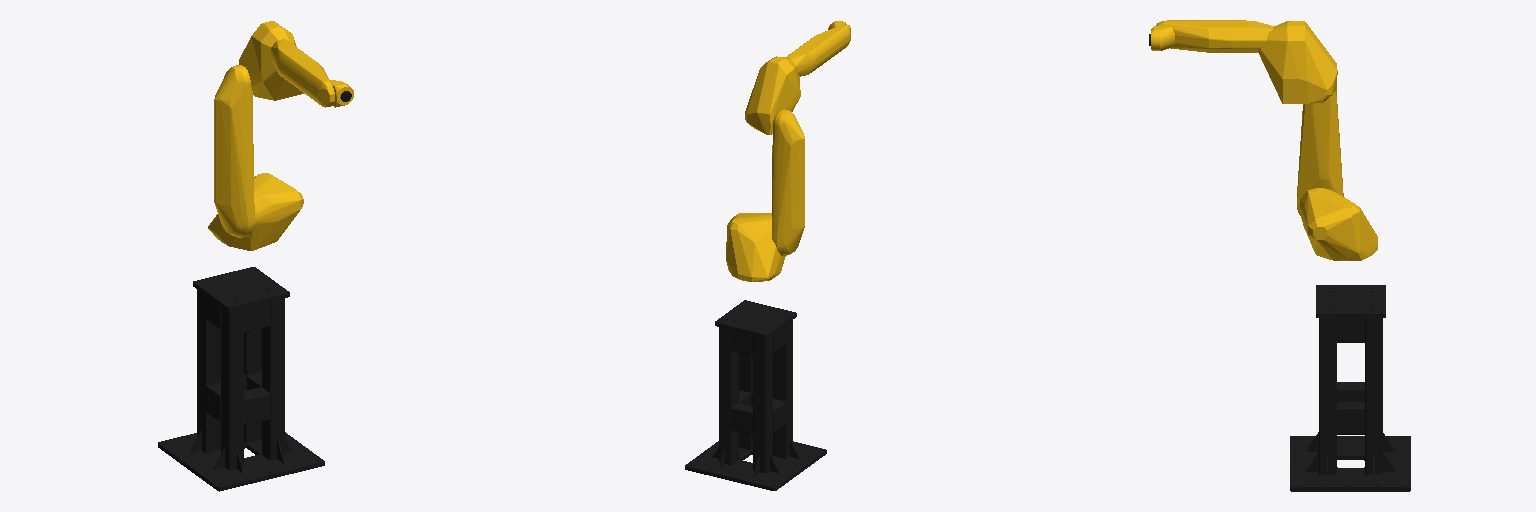
URDF robot description (fanuc_m20):
<?xml version="1.0" ?>
<!-- =================================================================================== -->
<!-- |    This document was autogenerated by xacro from fanucm20_robot.urdf.xacro      | -->
<!-- |    EDITING THIS FILE BY HAND IS NOT RECOMMENDED                                 | -->
<!-- =================================================================================== -->
<robot name="fanuc_m20" xmlns:xacro="http://wiki.ros.org/xacro">
  <gazebo>
    <plugin filename="libgazebo_ros_control.so" name="ros_control">
      <!--robotNamespace>/</robotNamespace-->
      <!--robotSimType>gazebo_ros_control/DefaultRobotHWSim</robotSimType-->
      <legacyModeNS>true</legacyModeNS>
    </plugin>
    <!--
    <plugin name="gazebo_ros_power_monitor_controller" filename="libgazebo_ros_power_monitor.so">
      <alwaysOn>true</alwaysOn>
      <updateRate>1.0</updateRate>
      <timeout>5</timeout>
      <powerStateTopic>power_state</powerStateTopic>
      <powerStateRate>10.0</powerStateRate>
      <fullChargeCapacity>87.78</fullChargeCapacity>     
      <dischargeRate>-474</dischargeRate>
      <chargeRate>525</chargeRate>
      <dischargeVoltage>15.52</dischargeVoltage>
      <chargeVoltage>16.41</chargeVoltage>
    </plugin>
-->
  </gazebo>
  <link name="base_link">
    <inertial>
      <origin rpy="0 0 0" xyz="-2.7535E-06 0.00054789 0.02299"/>
      <mass value="1.2345e+01"/>
      <inertia ixx="0.0029215E-04" ixy="2.2046E-07" ixz="-3.4773E-08" iyy="0.0028546E-04" iyz="-7.6362E-06" izz="0.000051176"/>
    </inertial>
    <visual>
      <origin rpy="0 0 0" xyz="0 0 1"/>
      <geometry>
        <mesh filename="../meshes/visual/base_link.stl"/>
      </geometry>
      <material name="">
        <color rgba="0.278431372549 0.278431372549 0.278431372549 1.0"/>
      </material>
    </visual>
    <collision>
      <origin rpy="0 0 0" xyz="0 0 1"/>
      <geometry>
        <mesh filename="../meshes/collision/base_link.stl"/>
      </geometry>
    </collision>
  </link>
  <joint name="shoulder_pan_joint" type="revolute">
    <parent link="base_link"/>
    <child link="shoulder_link"/>
    <origin rpy="0 0 0" xyz="0 0 1.525"/>
    <axis xyz="0 0 1"/>
    <limit effort="0" lower="-3.1415" upper="3.1415" velocity="3.0543"/>
    <dynamics damping="1.0" friction="0.0"/>
  </joint>
  <link name="shoulder_link">
    <inertial>
      <origin rpy="0 0 0" xyz="0.00029287 0.14173 0.54281"/>
      <mass value="10.994e-02"/>
      <inertia ixx="2.2088e-02" ixy="-0.00043922e-02" ixz="-0.0025417e-02" iyy="2.1473e-02" iyz="-0.049088e-02" izz="0.07998e-02"/>
    </inertial>
    <visual>
      <origin rpy="0 0 0" xyz="0 0 0"/>
      <geometry>
        <mesh filename="../meshes/visual/link_1.dae"/>
      </geometry>
      <material name="">
        <color rgba="0.96 0.76 0.13 1.0"/>
      </material>
    </visual>
    <collision>
      <origin rpy="0 0 0" xyz="0 0 0"/>
      <geometry>
        <mesh filename="../meshes/collision/link_1.stl"/>
      </geometry>
    </collision>
  </link>
  <joint name="shoulder_lift_joint" type="revolute">
    <parent link="shoulder_link"/>
    <child link="upper_arm_link"/>
    <origin rpy="0 0 0" xyz="0.150 0 0"/>
    <axis xyz="0 1 0"/>
    <limit effort="330.0" lower="-6.28318530718" upper="6.28318530718" velocity="2.16"/>
    <dynamics damping="1.0" friction="0.0"/>
  </joint>
  <link name="upper_arm_link">
    <inertial>
      <origin rpy="0 0 0" xyz="0.31908 -3.7071E-06 -0.0042956"/>
      <mass value="5.3139e-02"/>
      <inertia ixx="0.0095171e-02" ixy="7.2849E-06" ixz="-6.7014E-06" iyy="0.11411e-02" iyz="-1.1529E-06" izz="0.11411e-02"/>
    </inertial>
    <visual>
      <origin rpy="0 0 0" xyz="0 0 0"/>
      <geometry>
        <mesh filename="../meshes/visual/link_2.dae"/>
      </geometry>
      <material name="">
        <color rgba="0.96 0.76 0.13 1.0"/>
      </material>
    </visual>
    <collision>
      <origin rpy="0 0 0" xyz="0 0 0"/>
      <geometry>
        <mesh filename="../meshes/collision/link_2.stl"/>
      </geometry>
    </collision>
  </link>
  <joint name="elbow_joint" type="revolute">
    <parent link="upper_arm_link"/>
    <child link="forearm_link"/>
    <origin rpy="0 0 0" xyz="0 0 0.790"/>
    <axis xyz="0 -1 0"/>
    <limit effort="150.0" lower="-3.14159265359" upper="3.14159265359" velocity="3.15"/>
    <dynamics damping="1.0" friction="0.0"/>
  </joint>
  <link name="forearm_link">
    <inertial>
      <origin rpy="0 0 0" xyz="0.24431 6.6794E-06 0.12549"/>
      <mass value="3.1022e-02"/>
      <inertia ixx="0.0027288e-02" ixy="-6.2713E-06" ixz="-0.0018082e-02" iyy="0.097825e-02" iyz="3.5731E-07" izz="0.097866"/>
    </inertial>
    <visual>
      <origin rpy="0 0 0" xyz="0 0 0"/>
      <geometry>
        <mesh filename="../meshes/visual/link_3.dae"/>
      </geometry>
      <material name="">
        <color rgba="0.96 0.76 0.13 1.0"/>
      </material>
    </visual>
    <collision>
      <origin rpy="0 0 0" xyz="0 0 0"/>
      <geometry>
        <mesh filename="../meshes/collision/link_3.stl"/>
      </geometry>
    </collision>
  </link>
  <joint name="wrist_1_joint" type="revolute">
    <parent link="forearm_link"/>
    <child link="wrist_1_link"/>
    <origin rpy="0 0 0" xyz="0 0 0.250"/>
    <axis xyz="-1 0 0"/>
    <limit effort="54.0" lower="-6.28318530718" upper="6.28318530718" velocity="3.2"/>
    <dynamics damping="1.0" friction="0.0"/>
  </joint>
  <link name="wrist_1_link">
    <inertial>
      <origin rpy="0 0 0" xyz="-5.2305E-07 -0.00026581 -0.0027894"/>
      <mass value="0.57981e-03"/>
      <inertia ixx="0.00088336e-02" ixy="-6.4251E-09" ixz="-5.1594E-09" iyy="0.00046118e-02" iyz="1.0734E-06" izz="0.00085336e-02"/>
    </inertial>
    <visual>
      <origin rpy="0 0 0" xyz="0 0 0"/>
      <geometry>
        <mesh filename="../meshes/visual/link_4.dae"/>
      </geometry>
      <material name="">
        <color rgba="0.96 0.76 0.13 1.0"/>
      </material>
    </visual>
    <collision>
      <origin rpy="0 0 0" xyz="0 0 0"/>
      <geometry>
        <mesh filename="../meshes/collision/link_4.stl"/>
      </geometry>
    </collision>
  </link>
  <joint name="wrist_2_joint" type="revolute">
    <parent link="wrist_1_link"/>
    <child link="wrist_2_link"/>
    <origin rpy="0 0 0" xyz="0.835 0 0.0"/>
    <axis xyz="0 -1 0"/>
    <limit effort="54.0" lower="-6.28318530718" upper="6.28318530718" velocity="3.2"/>
    <dynamics damping="0.0" friction="0.0"/>
  </joint>
  <link name="wrist_2_link">
    <inertial>
      <origin rpy="0 0 0" xyz="-5.2305E-07 -0.00026581 -0.0027894"/>
      <mass value="0.37981e-03"/>
      <inertia ixx="0.00088336e-02" ixy="-6.4251E-09" ixz="-5.1594E-09" iyy="0.00046118e-02" iyz="1.0734E-06" izz="0.00085336e-02"/>
    </inertial>
    <visual>
      <origin rpy="0 0 0" xyz="0 0 0"/>
      <geometry>
        <mesh filename="../meshes/visual/link_5.dae"/>
      </geometry>
      <material name="">
        <color rgba="0.96 0.76 0.13 1.0"/>
      </material>
    </visual>
    <collision>
      <origin rpy="0 0 0" xyz="0 0 0"/>
      <geometry>
        <mesh filename="../meshes/collision/link_5.stl"/>
      </geometry>
    </collision>
  </link>
  <joint name="wrist_3_joint" type="revolute">
    <parent link="wrist_2_link"/>
    <child link="wrist_3_link"/>
    <origin rpy="0 0 0" xyz="0.1 0 0"/>
    <axis xyz="-1 0 0"/>
    <limit effort="0" lower="-6.2831" upper="6.2831" velocity="6.1959"/>
    <dynamics damping="0.0" friction="0.0"/>
  </joint>
  <link name="wrist_3_link">
    <inertial>
      <origin rpy="0 0 0" xyz="-2.2127E-09 0.00023722 -0.018629"/>
      <mass value="0.13669e-03"/>
      <inertia ixx="6.0946E-07" ixy="9.3663E-12" ixz="-1.3841E-12" iyy="5.9501E-07" iyz="1.9944E-09" izz="9.6981E-07"/>
    </inertial>
    <visual>
      <origin rpy="0 0 0" xyz="0 0 0"/>
      <geometry>
        <mesh filename="../meshes/visual/link_6.dae"/>
      </geometry>
      <material name="">
        <color rgba="0.15 0.15 0.15 1.0"/>
      </material>
    </visual>
    <collision>
      <origin rpy="0 0 0" xyz="0 0 0"/>
      <geometry>
        <mesh filename="../meshes/collision/link_6.stl"/>
      </geometry>
    </collision>
  </link>
  <transmission name="shoulder_pan_trans">
    <type>transmission_interface/SimpleTransmission</type>
    <joint name="shoulder_pan_joint">
      <hardwareInterface>hardware_interface/PositionJointInterface</hardwareInterface>
    </joint>
    <actuator name="shoulder_pan_motor">
      <mechanicalReduction>1</mechanicalReduction>
    </actuator>
  </transmission>
  <transmission name="shoulder_lift_trans">
    <type>transmission_interface/SimpleTransmission</type>
    <joint name="shoulder_lift_joint">
      <hardwareInterface>hardware_interface/PositionJointInterface</hardwareInterface>
    </joint>
    <actuator name="shoulder_lift_motor">
      <mechanicalReduction>1</mechanicalReduction>
    </actuator>
  </transmission>
  <transmission name="elbow_trans">
    <type>transmission_interface/SimpleTransmission</type>
    <joint name="elbow_joint">
      <hardwareInterface>hardware_interface/PositionJointInterface</hardwareInterface>
    </joint>
    <actuator name="elbow_motor">
      <mechanicalReduction>1</mechanicalReduction>
    </actuator>
  </transmission>
  <transmission name="wrist_1_trans">
    <type>transmission_interface/SimpleTransmission</type>
    <joint name="wrist_1_joint">
      <hardwareInterface>hardware_interface/PositionJointInterface</hardwareInterface>
    </joint>
    <actuator name="wrist_1_motor">
      <mechanicalReduction>1</mechanicalReduction>
    </actuator>
  </transmission>
  <transmission name="wrist_2_trans">
    <type>transmission_interface/SimpleTransmission</type>
    <joint name="wrist_2_joint">
      <hardwareInterface>hardware_interface/PositionJointInterface</hardwareInterface>
    </joint>
    <actuator name="wrist_2_motor">
      <mechanicalReduction>1</mechanicalReduction>
    </actuator>
  </transmission>
  <transmission name="wrist_3_trans">
    <type>transmission_interface/SimpleTransmission</type>
    <joint name="wrist_3_joint">
      <hardwareInterface>hardware_interface/PositionJointInterface</hardwareInterface>
    </joint>
    <actuator name="wrist_3_motor">
      <mechanicalReduction>1</mechanicalReduction>
    </actuator>
  </transmission>
  <gazebo reference="shoulder_link">
    <selfCollide>true</selfCollide>
  </gazebo>
  <gazebo reference="upper_arm_link">
    <selfCollide>true</selfCollide>
  </gazebo>
  <gazebo reference="forearm_link">
    <selfCollide>true</selfCollide>
  </gazebo>
  <gazebo reference="wrist_1_link">
    <selfCollide>true</selfCollide>
  </gazebo>
  <gazebo reference="wrist_3_link">
    <selfCollide>true</selfCollide>
  </gazebo>
  <gazebo reference="wrist_2_link">
    <selfCollide>true</selfCollide>
  </gazebo>
  <gazebo reference="ee_link">
    <selfCollide>true</selfCollide>
  </gazebo>
  <!-- base for robot -->
  <link name="fanucbase">
    <inertial>
      <origin rpy="0 0 0" xyz="-2.7535E-06 0.00054789 0.02299"/>
      <mass value="3.2345e+01"/>
      <inertia ixx="0.0029215E-04" ixy="2.2046E-07" ixz="-3.4773E-08" iyy="0.0028546E-04" iyz="-7.6362E-06" izz="0.000051176"/>
    </inertial>
    <visual>
      <origin rpy="0 0 0" xyz="0 0 0"/>
      <geometry>
        <mesh filename="../meshes/visual/base.dae" scale="0.6 0.6 1"/>
      </geometry>
      <material name="">
        <color rgba="0.15 0.15 0.15 1.0"/>
      </material>
    </visual>
    <collision>
      <origin rpy="0 0 0" xyz="0 0 0"/>
      <geometry>
        <mesh filename="../meshes/visual/base.STL" scale="0.6 0.6 1"/>
      </geometry>
    </collision>
  </link>
  <joint name="base_link_base" type="fixed">
    <origin rpy="0 0 0" xyz="-0.35 -0.35 0"/>
    <parent link="base_link"/>
    <child link="fanucbase"/>
  </joint>
  <!--tool link -->
  <link name="tool0">
    <visual>
      <geometry>
        <mesh filename="../meshes/visual/cameratool.STL" scale="0.001 0.001 0.001"/>
      </geometry>
    </visual>
  </link>
  <joint name="tool_joint" type="fixed">
    <origin rpy="1.57079632679 3.14159265359 1.57079632679" xyz="0 0 0"/>
    <parent link="wrist_3_link"/>
    <child link="tool0"/>
  </joint>
  <link name="world"/>
  <joint name="world_joint" type="fixed">
    <parent link="world"/>
    <child link="base_link"/>
    <origin rpy="0.0 0.0 -1.57079632679" xyz="0.0 0.0 0.0"/>
  </joint>
</robot>

--- Facts derived from the render (not from the file) ---
The picture shows the robot from 3 angles, left to right: view 1: azimuth 30°, elevation 25°; view 2: azimuth 150°, elevation 25°; view 3: azimuth 270°, elevation 25°; orthographic projection.
Model fanuc_m20 with 10 links and 9 joints (6 revolute, 3 fixed), rooted at world, posed every joint at zero.
Links seen in each view (by area): view 1: fanucbase, upper_arm_link, shoulder_link, forearm_link, wrist_1_link; view 2: fanucbase, upper_arm_link, shoulder_link, forearm_link, wrist_1_link; view 3: fanucbase, forearm_link, shoulder_link, upper_arm_link, wrist_1_link, wrist_2_link.
Boxes of the visible links, x1,y1,x2,y2 form: fanucbase: (158,267,324,491); upper_arm_link: (214,65,254,237); shoulder_link: (208,173,303,250); forearm_link: (239,21,303,100); wrist_1_link: (271,39,334,107); fanucbase: (685,300,826,490); upper_arm_link: (772,109,804,256); shoulder_link: (726,213,785,281); forearm_link: (745,56,800,134); wrist_1_link: (787,24,850,76); fanucbase: (1290,285,1410,491); forearm_link: (1257,21,1337,103); shoulder_link: (1299,188,1377,260); upper_arm_link: (1297,90,1343,215); wrist_1_link: (1156,20,1274,52); wrist_2_link: (1151,26,1174,50).
Size in the robot's own frame: 0.66 by 1.43 by 2.67 metres.
7 mesh visuals loaded from 9 distinct referenced files (7 Collada DAE); not drawn: 2 (reference not matched to a file when rendering).